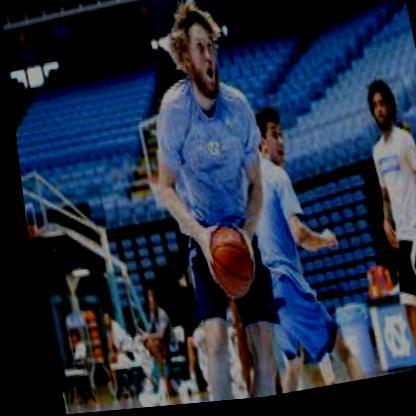basketball: (195, 221, 253, 307)
